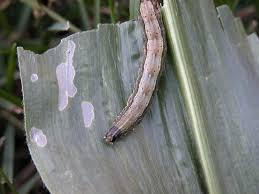fallarmy_worm: (99, 1, 169, 146)
